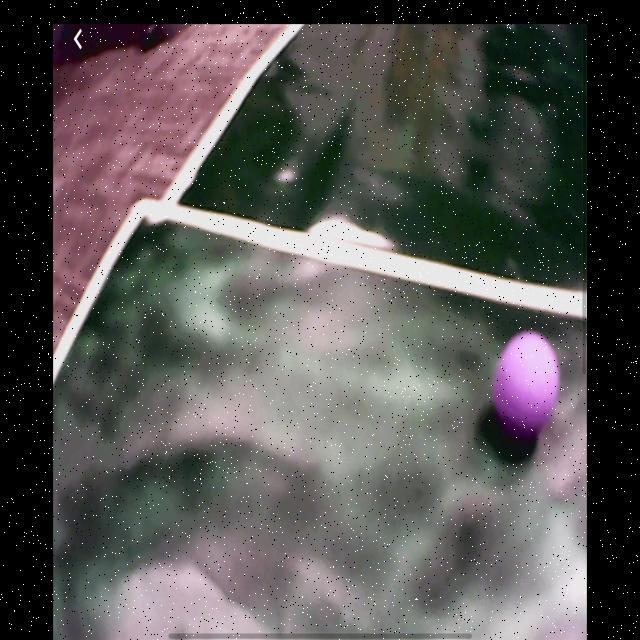ball: (494, 329, 561, 441)
